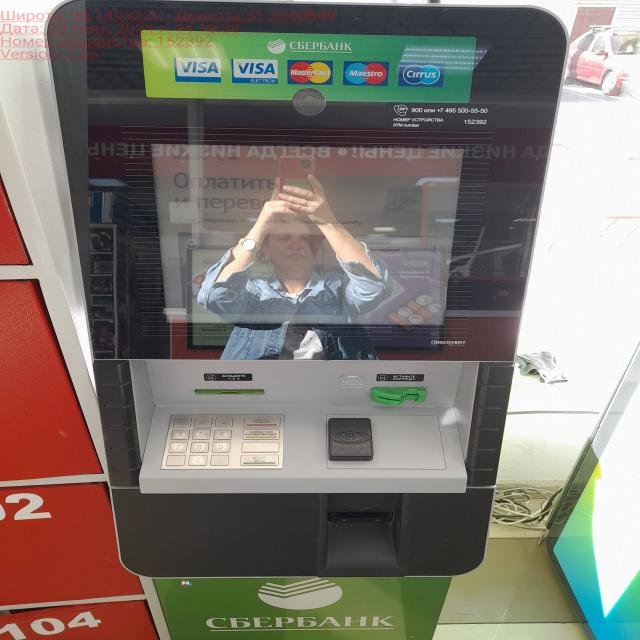bank: (51, 5, 566, 640)
